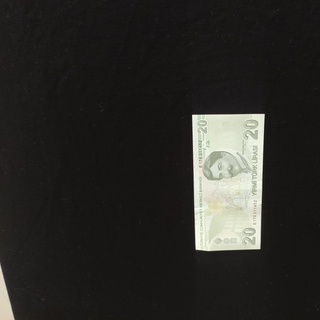20TLBack: (191, 113, 265, 251)
